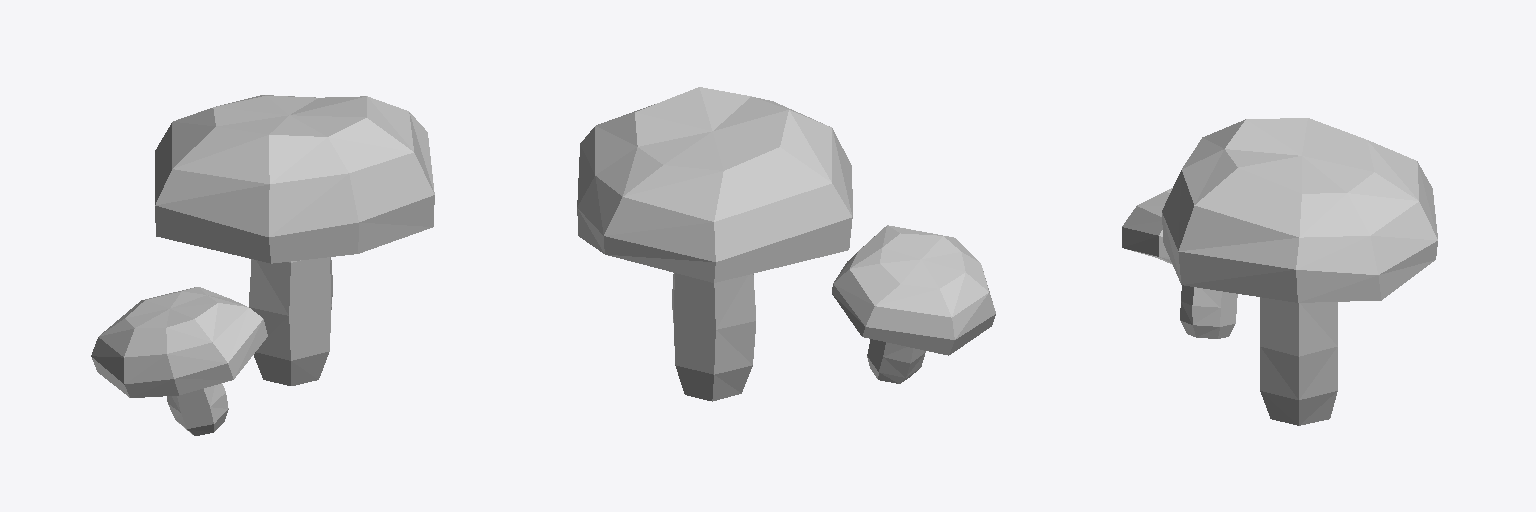
File: brownmushroom.obj
3 views of the same model, side by side, from view 1: azimuth 30°, elevation 25°; view 2: azimuth 150°, elevation 25°; view 3: azimuth 270°, elevation 25° (orthographic).
Bounding box in the file's own units: 1.18 × 0.8475 × 0.9019.